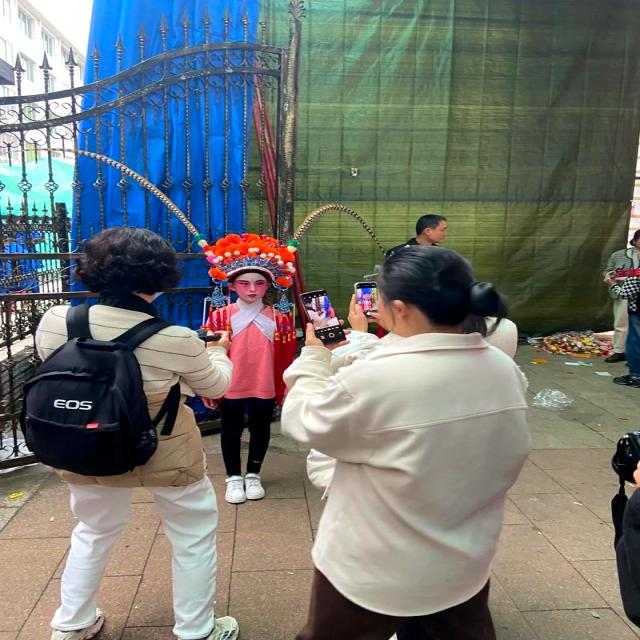Reeves-s Pheasant: (75, 149, 206, 247), (286, 203, 386, 254)
